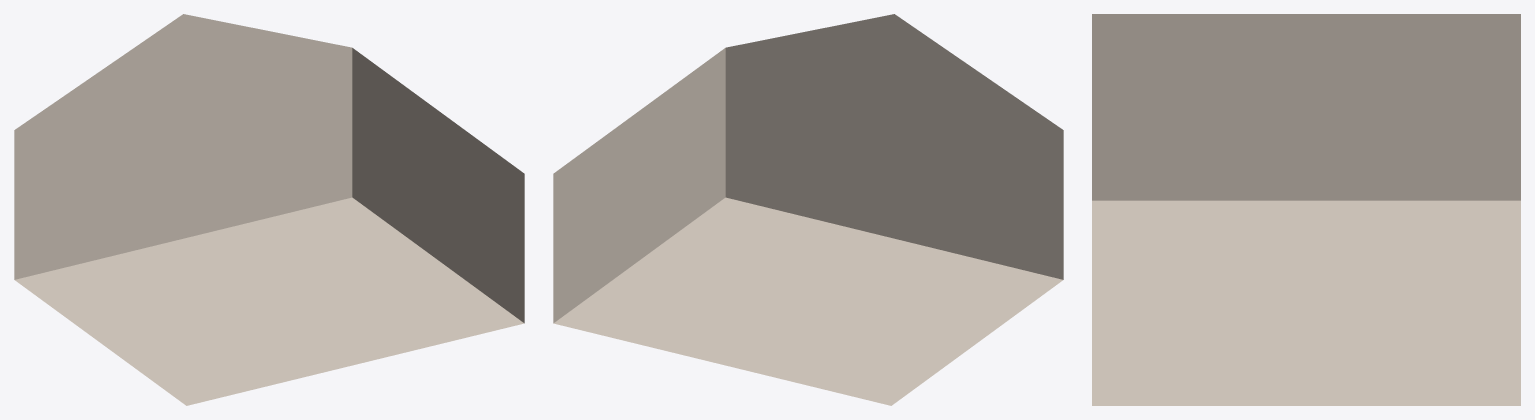
The model's file is villa-luxe.gltf.
The picture shows the model from 3 angles, left to right: view 1: azimuth 30°, elevation 25°; view 2: azimuth 150°, elevation 25°; view 3: azimuth 270°, elevation 25°; orthographic projection. The views are drawn at different scales.
Bounding box in the file's own units: 3.4 × 2.16 × 3.
